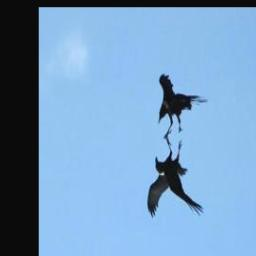Crow: (146, 133, 206, 219)
